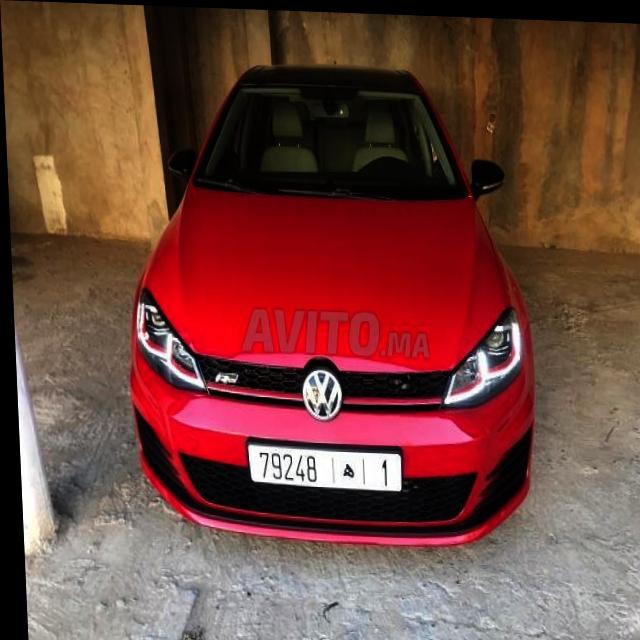License-Plate: (243, 440, 398, 488)
